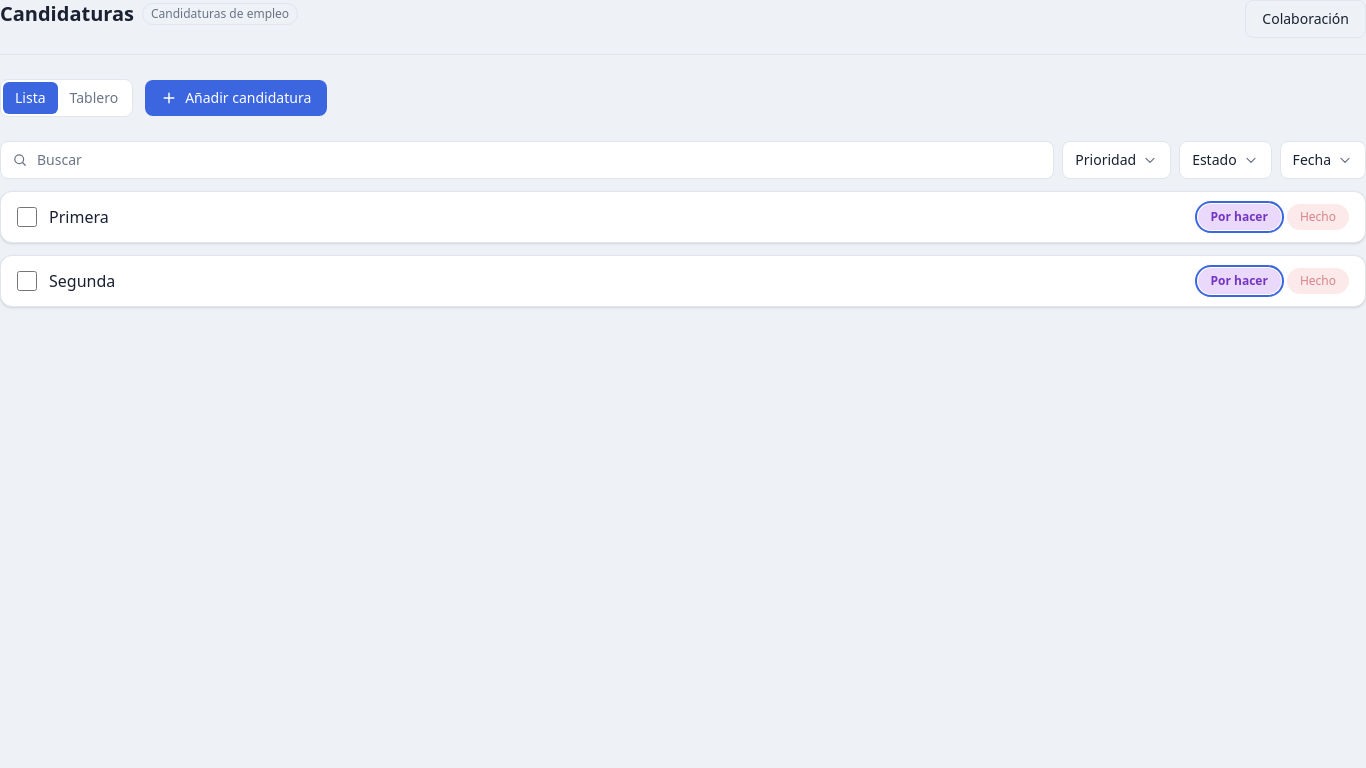
Test: BoardPage: añadir tarea o candidatura › en un tablero de candidaturas dice «Añadir candidatura»
This screenshot has width=1366, height=768.
Click the button "Añadir candidatura" at (236, 98), box [145,80,327,116]
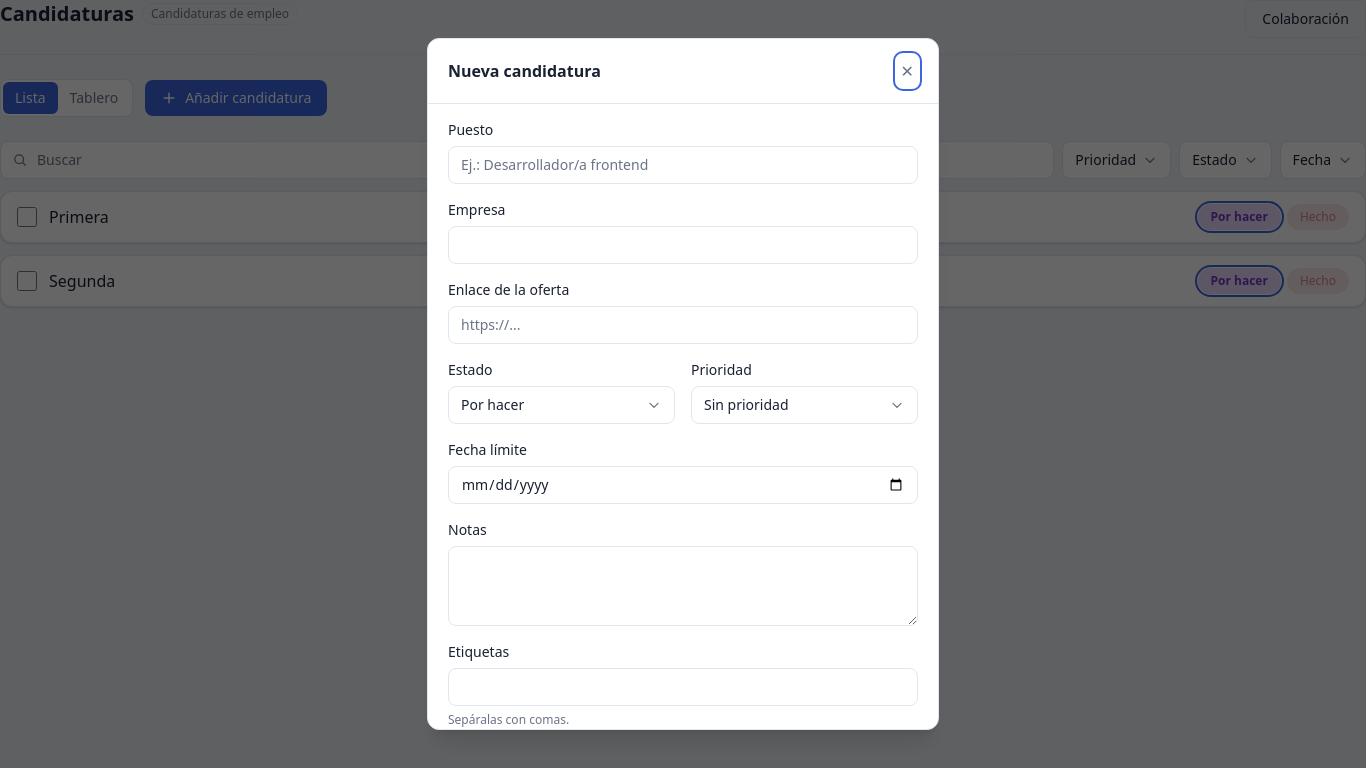
Now the field labelled "Empresa" is shown, box [448,226,918,264]
